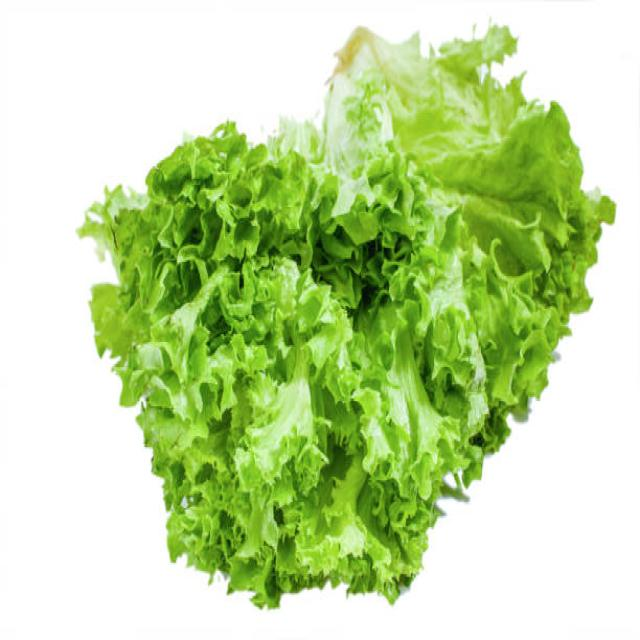Wet Waste: (86, 26, 618, 607)
